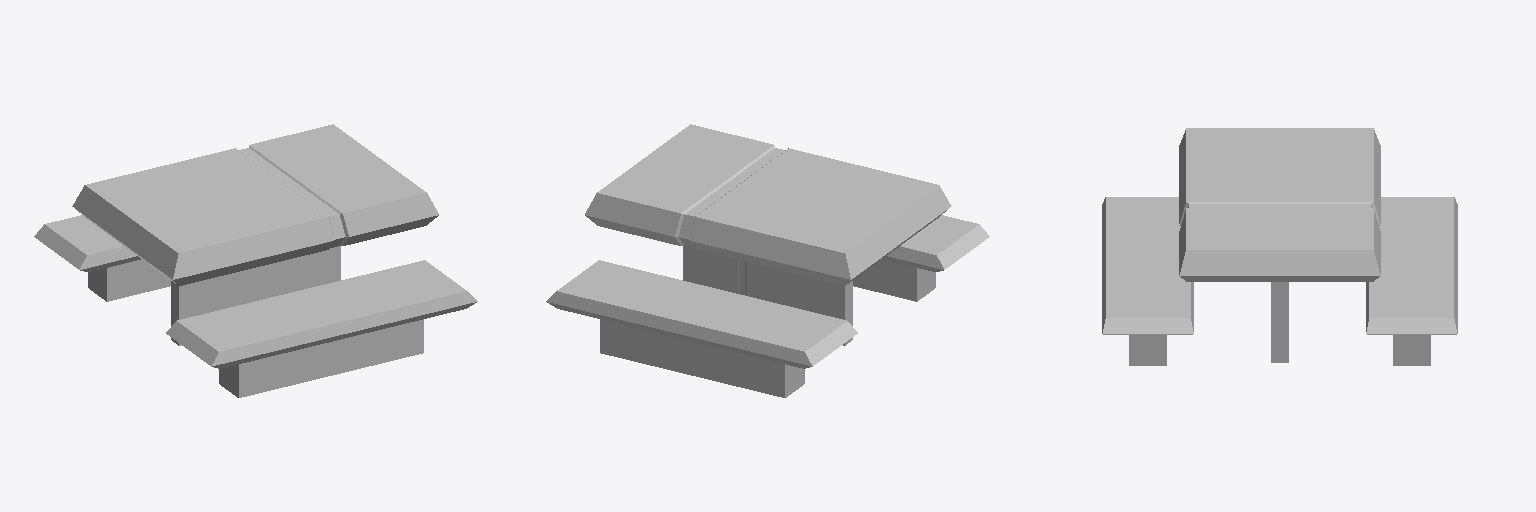
Rendered from Cafeteria_Table_Inset_Red.obj.
The picture shows the model from 3 angles: view 1: azimuth 30°, elevation 25°; view 2: azimuth 150°, elevation 25°; view 3: azimuth 270°, elevation 25°; orthographic projection.
Parts seen in each view (by area): view 1: Cafeteria_Table_Inset_Red; view 2: Cafeteria_Table_Inset_Red; view 3: Cafeteria_Table_Inset_Red.
Boxes of the visible parts, x1=… form: Cafeteria_Table_Inset_Red: x1=34, y1=124, x2=477, y2=397; Cafeteria_Table_Inset_Red: x1=546, y1=124, x2=989, y2=397; Cafeteria_Table_Inset_Red: x1=1102, y1=128, x2=1457, y2=365.
Size of the model in its own units: 1.94 by 0.9342 by 2.24.